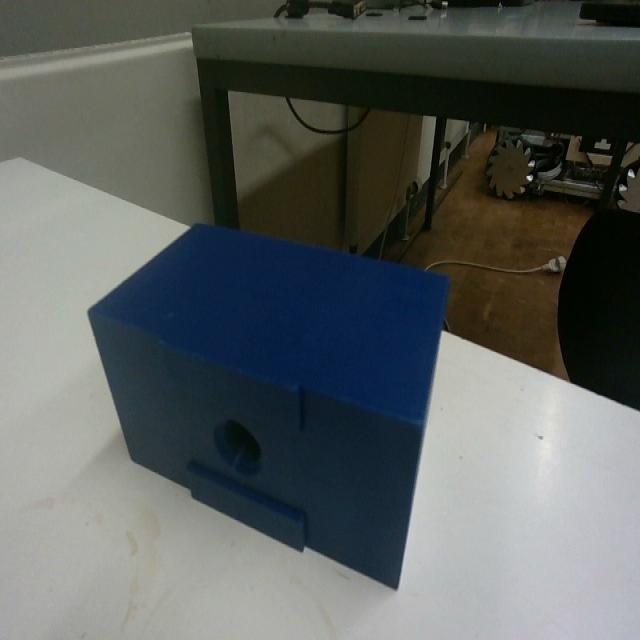Blue Cuboid: (85, 217, 451, 591)
